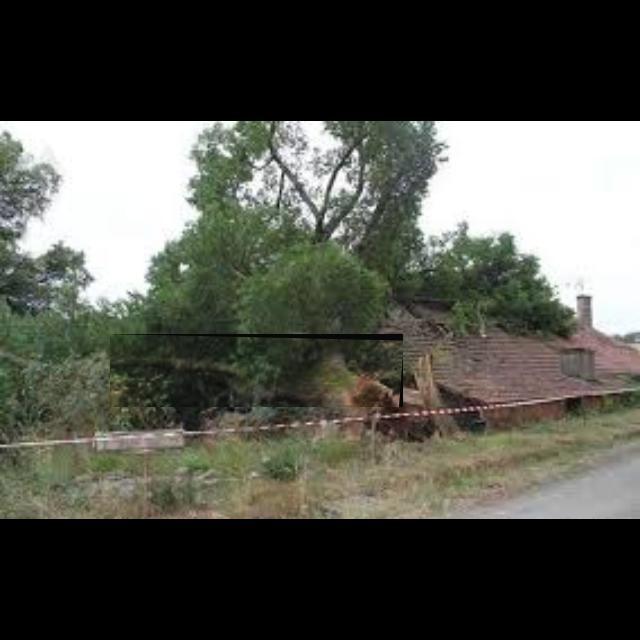Fallen Tree: (110, 334, 404, 408)
